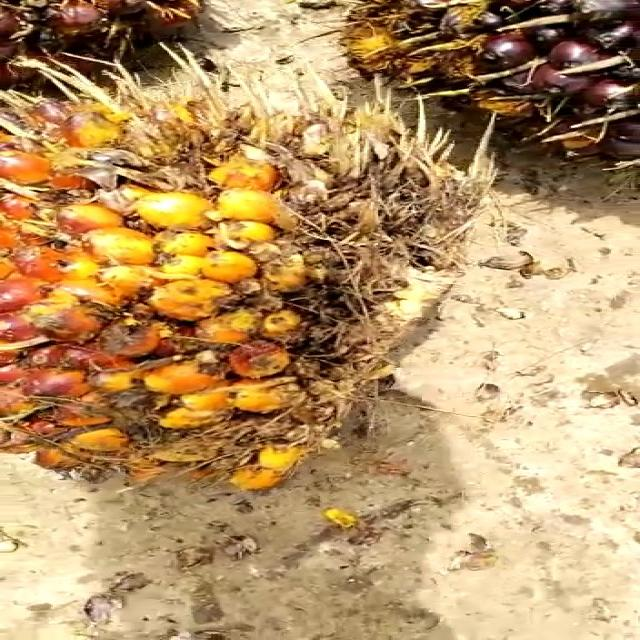palm oil: (0, 62, 464, 501)
